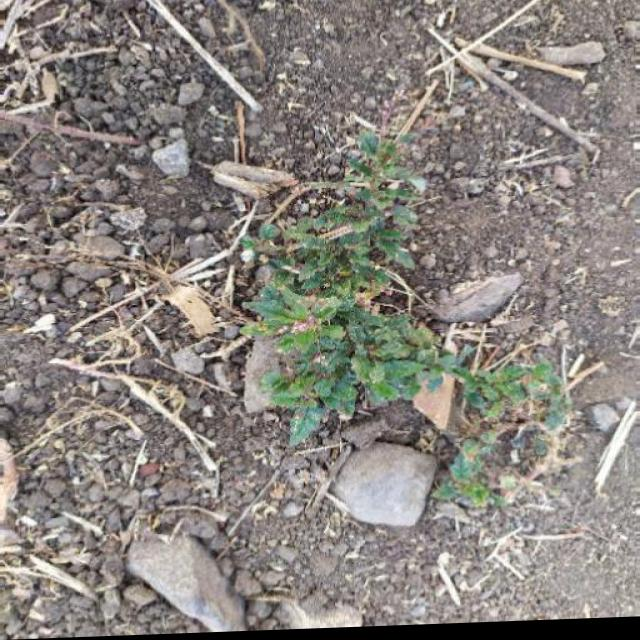weed: (255, 165, 573, 561)
